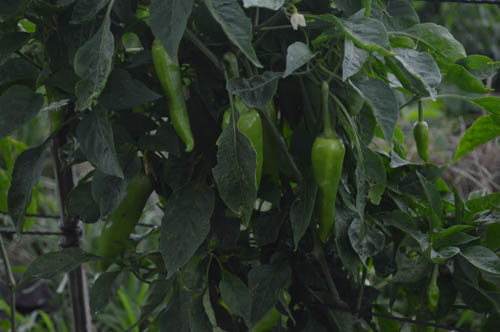ChiliPepper: (152, 45, 196, 149), (99, 174, 146, 264), (226, 110, 266, 194), (311, 138, 340, 237), (412, 123, 433, 161)
